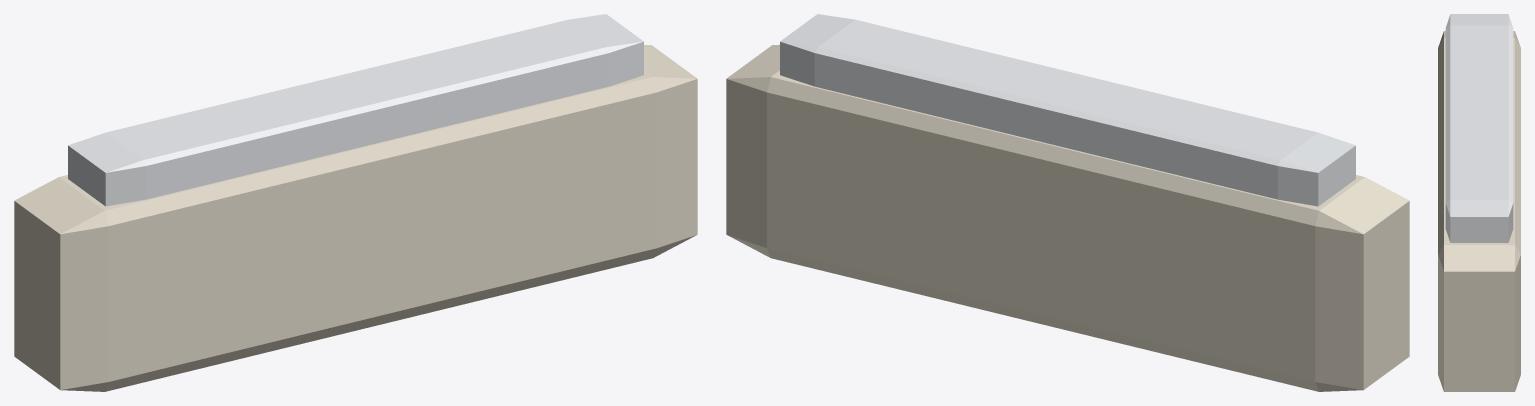
File: b17_retractable_dog_leash.glb
3 renders of one model, left to right at view 1: azimuth 30°, elevation 25°; view 2: azimuth 150°, elevation 25°; view 3: azimuth 270°, elevation 25°, orthographic. The views are drawn at different scales.
Visible parts, largest first — view 1: b17_retractable_dog_leash; view 2: b17_retractable_dog_leash; view 3: b17_retractable_dog_leash.
Boxes of the visible parts, bbox=[...] form: b17_retractable_dog_leash: bbox=[14, 14, 697, 391]; b17_retractable_dog_leash: bbox=[726, 14, 1409, 391]; b17_retractable_dog_leash: bbox=[1438, 14, 1520, 391].
Bounding box in the file's own units: 0.385 × 0.126 × 0.056.
